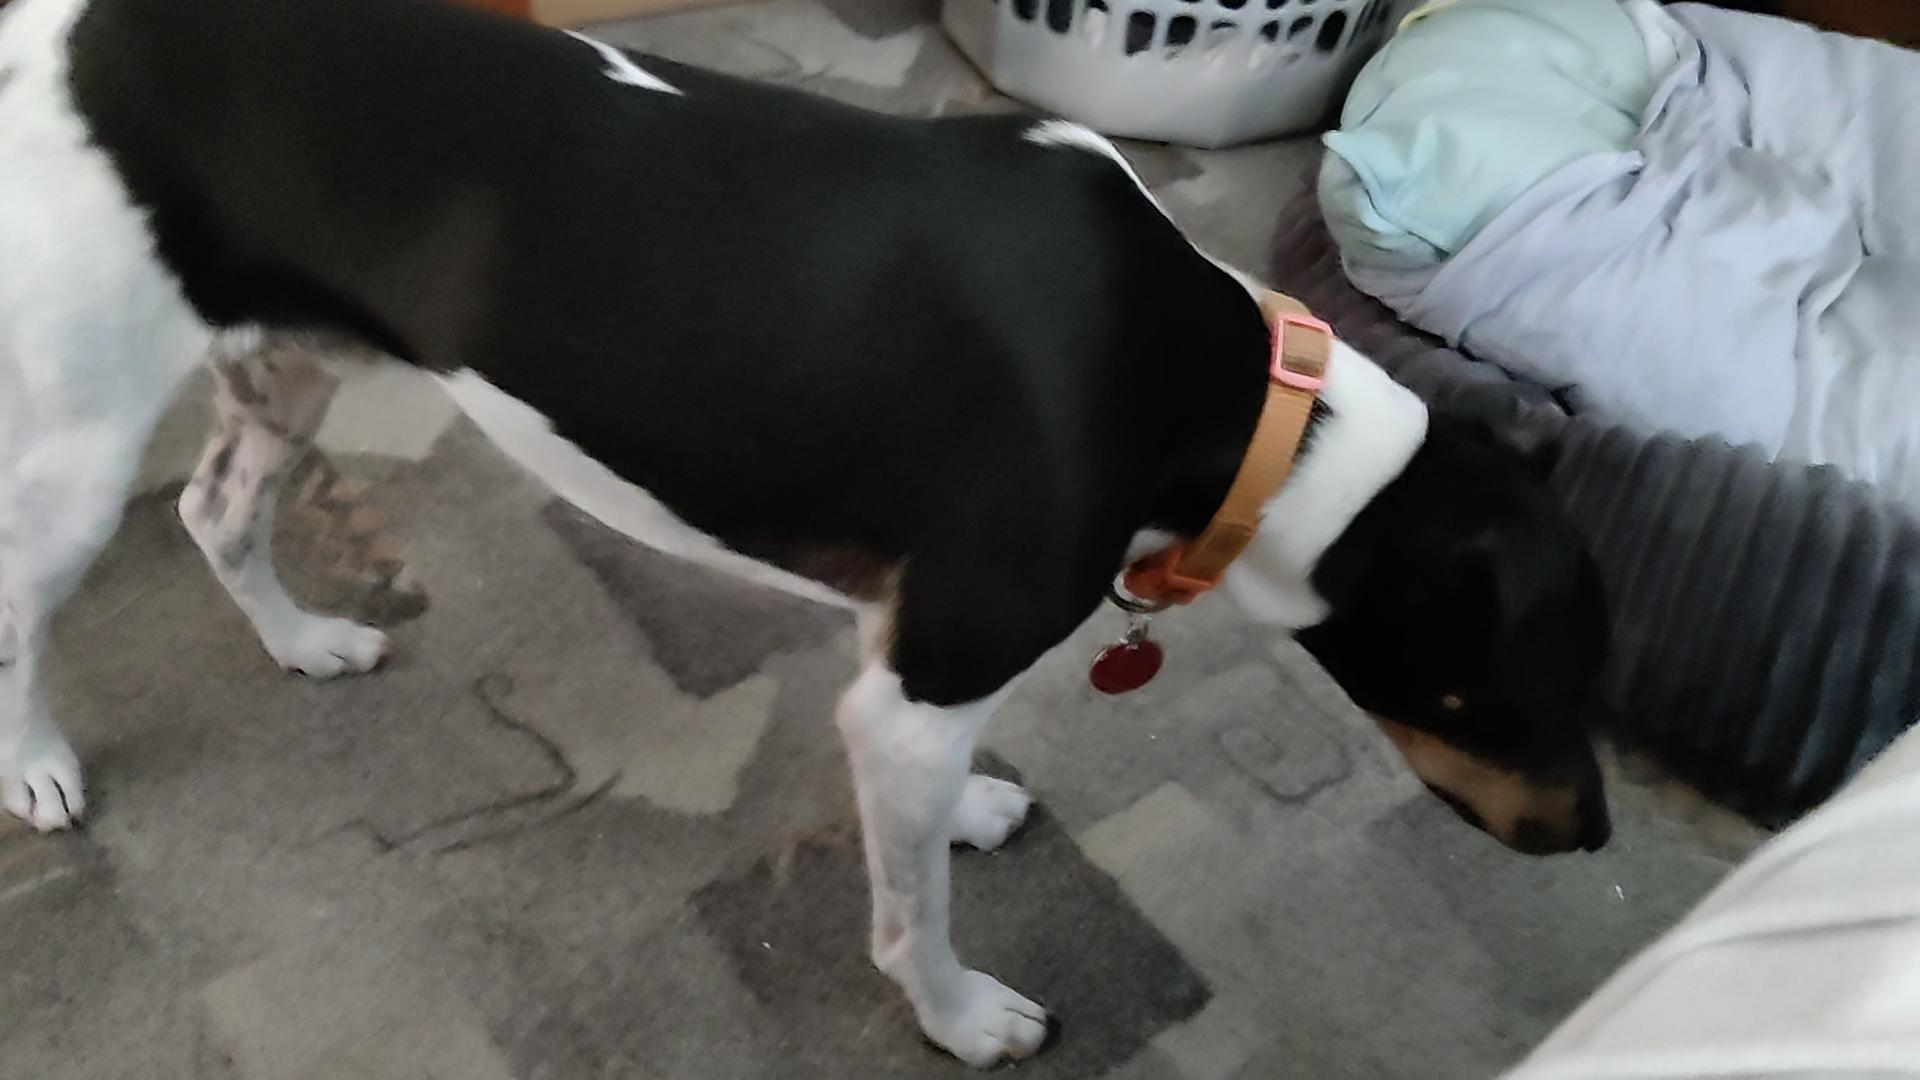Dog: (0, 0, 1625, 1072)
